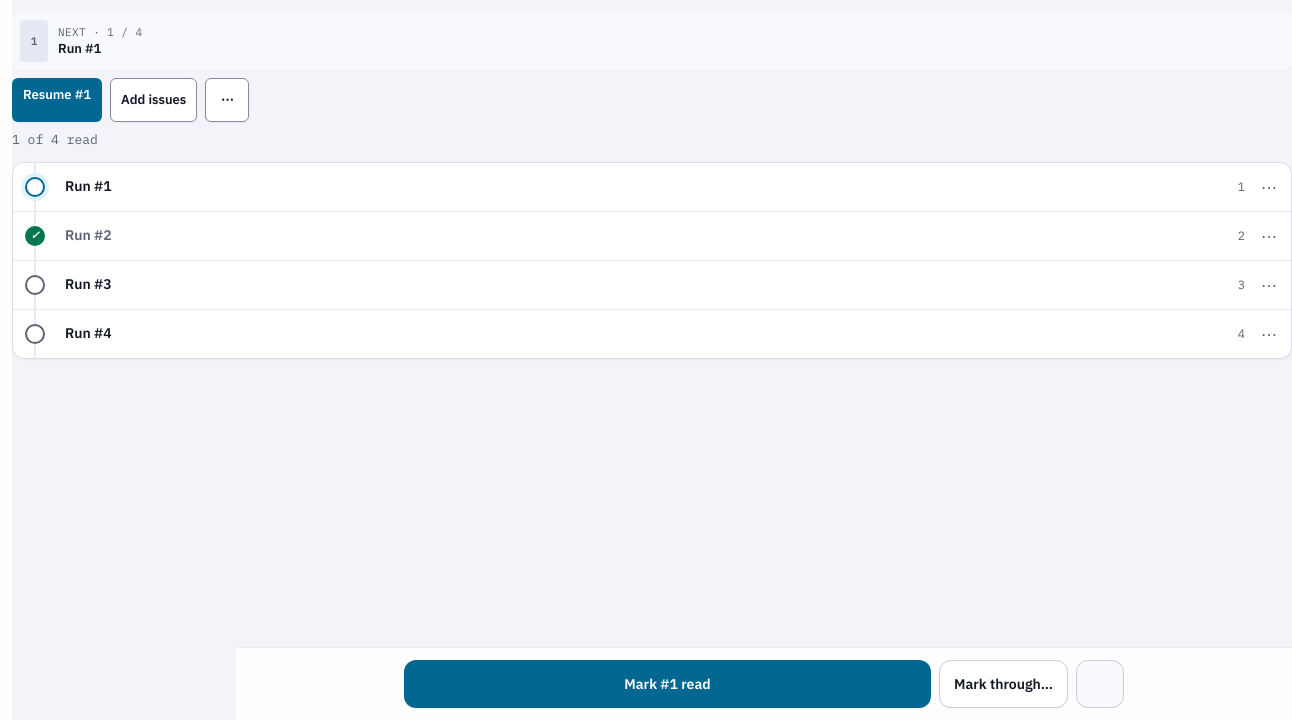
the run's ⋯ menu › copies the unread labels one per line in sequence order, confirmed by a status toast
What coordinates should you click on to do the following:
click the button with class "more"
I would click on:
 (227, 100)
Its box is [205,78,249,122].
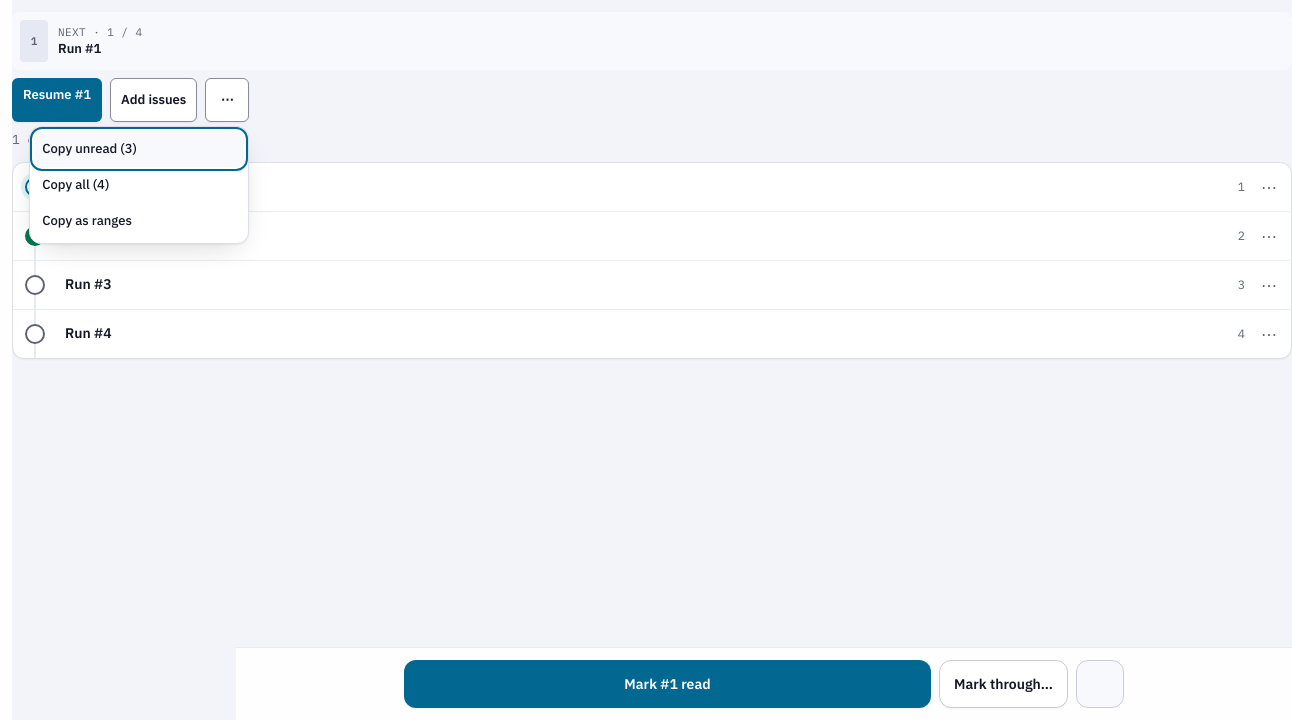
What coordinates should you click on to do the following:
click the menu item "Copy unread (3)"
I would click on:
 (139, 149)
Its box is [34,131,244,167].
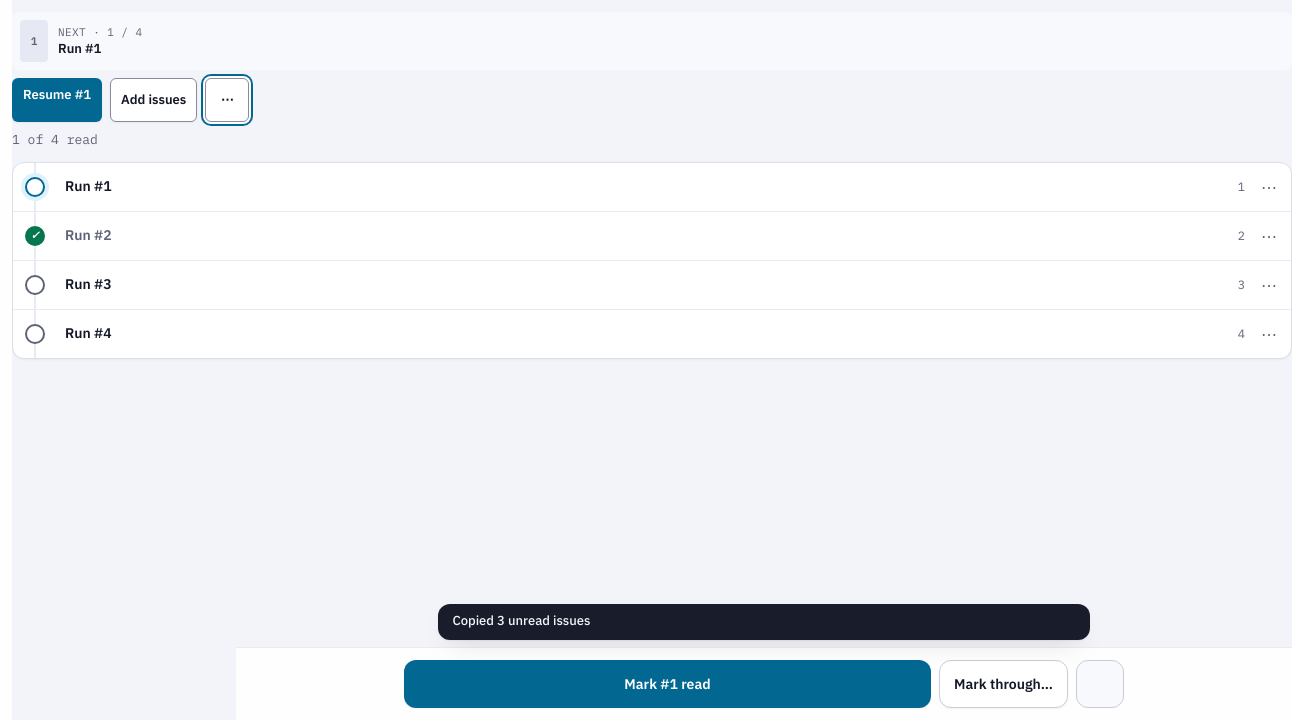
Now the message "Copied 3 unread issues" is shown, box [438,604,1090,640]
